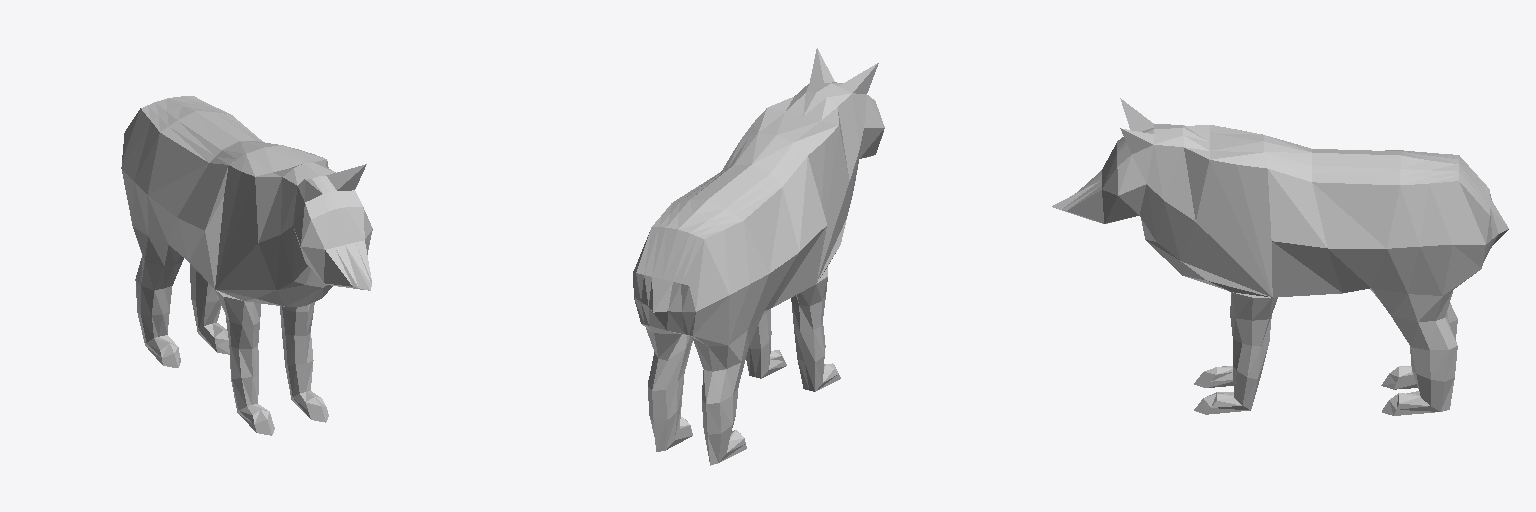
File: piesblendtex_000039.obj
The picture shows the model from 3 angles: view 1: azimuth 30°, elevation 25°; view 2: azimuth 150°, elevation 25°; view 3: azimuth 270°, elevation 25°; orthographic projection.
Parts seen in each view (by area): view 1: Cube; view 2: Cube; view 3: Cube.
Boxes of the visible parts, box(x1,y1,x2,y2) form: Cube: box(121, 96, 372, 435); Cube: box(633, 48, 884, 465); Cube: box(1052, 98, 1508, 415).
Bounding box in the file's own units: 2.56 × 6.33 × 9.2.